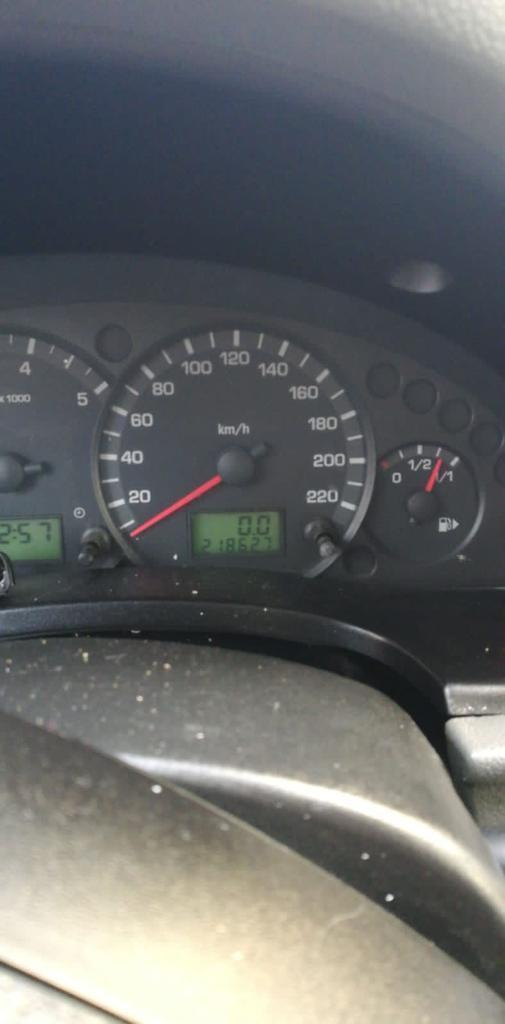,: (251, 531, 255, 535)
0: (238, 514, 250, 535), (256, 515, 269, 534)
1: (217, 538, 224, 552)
2: (249, 536, 260, 553), (200, 538, 211, 553)
6: (237, 536, 247, 552)
7: (263, 536, 272, 552)
8: (225, 537, 234, 552)
odometer: (188, 509, 281, 557)
